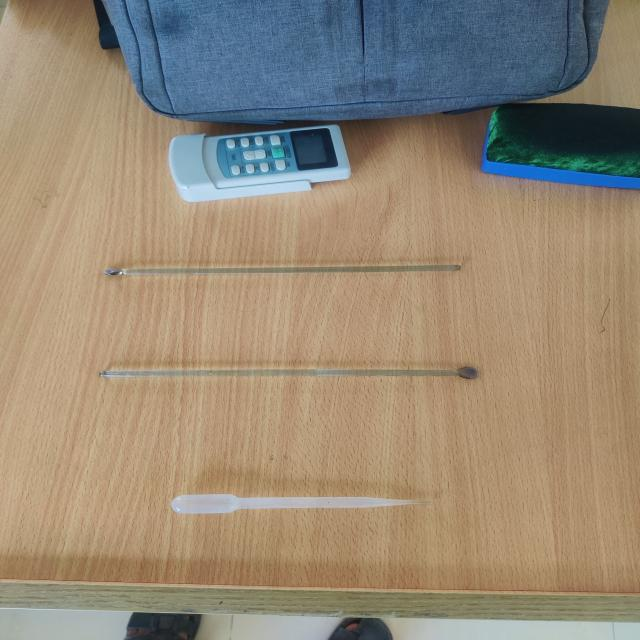Glass_Rod: (81, 228, 480, 314), (78, 330, 494, 409)
Pipette: (152, 476, 459, 541)
